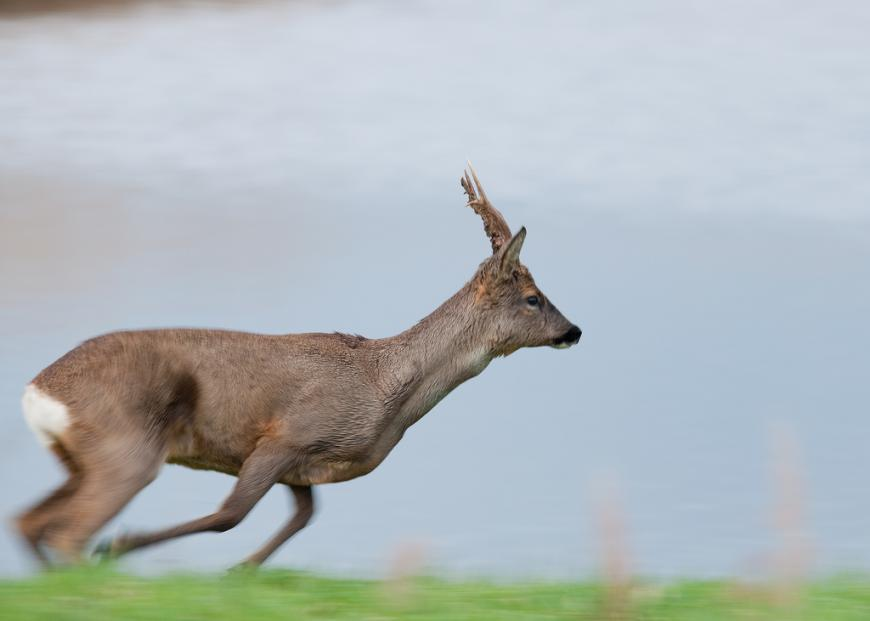Blackbuck: (1, 169, 602, 588)
